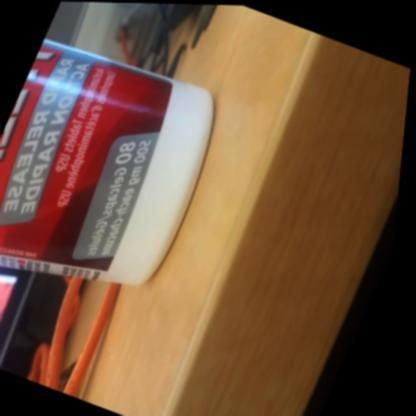jar: (0, 32, 225, 316)
